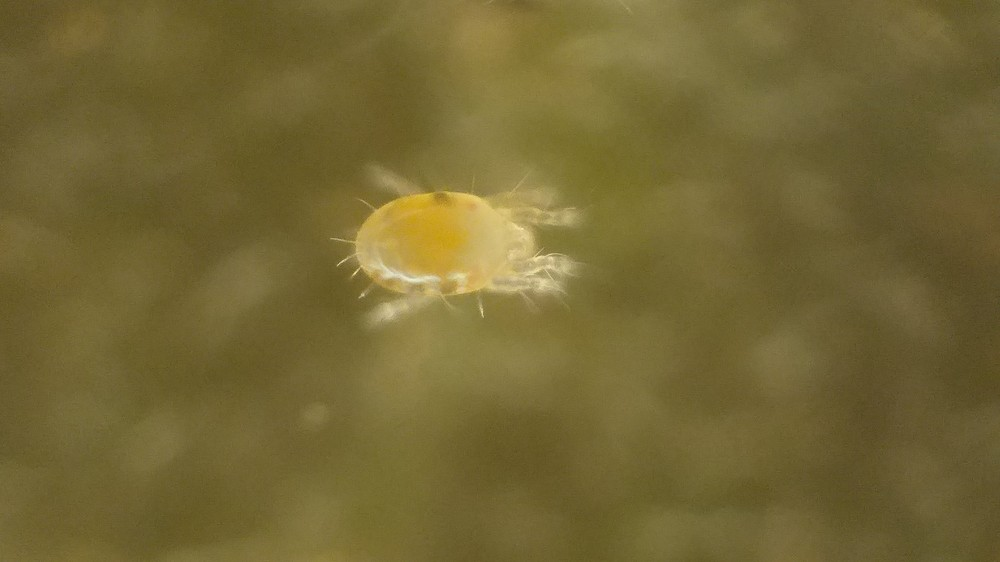Aracnido Rojo: (312, 140, 634, 348)
